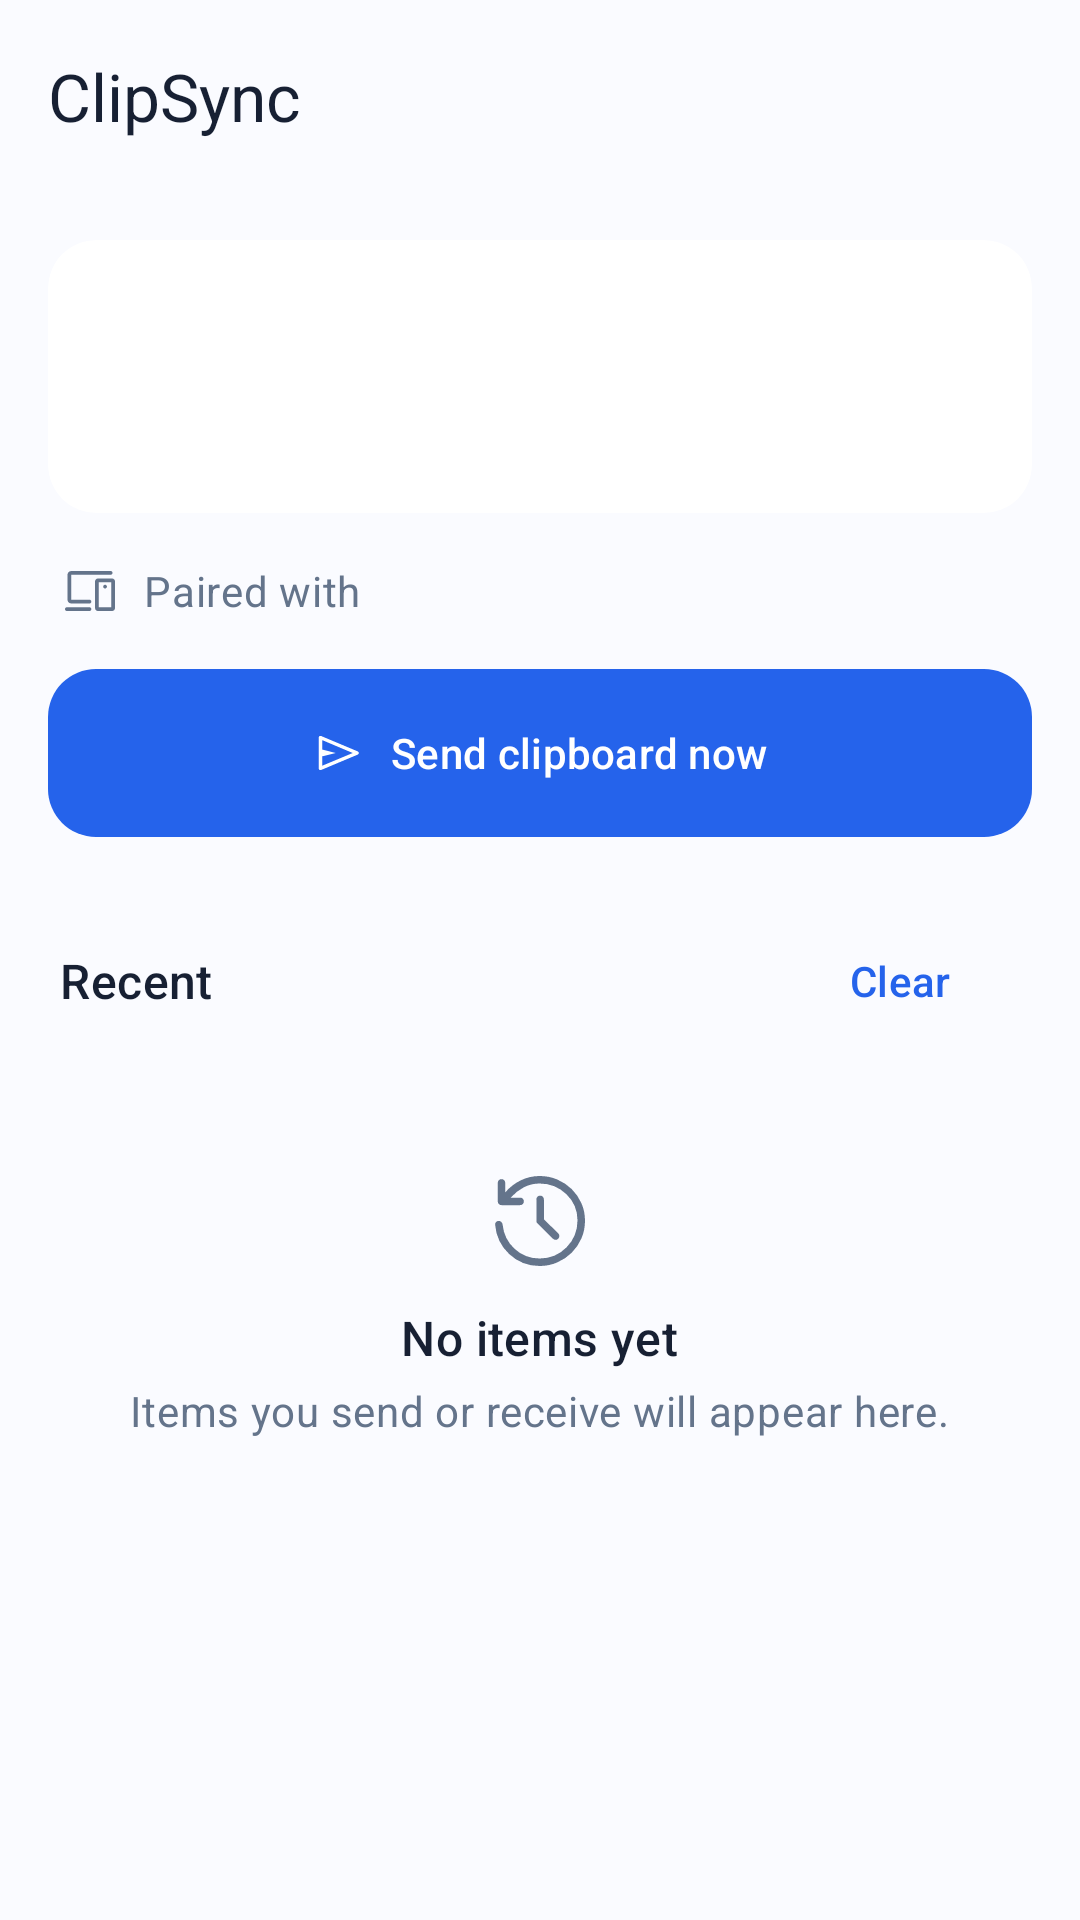

Icon bounding boxes for this 1080px x 1920px phone screenshot, format region(x1, y1, x2, y2):
devices: region(65, 571, 115, 611)
history: region(495, 1176, 585, 1266)
